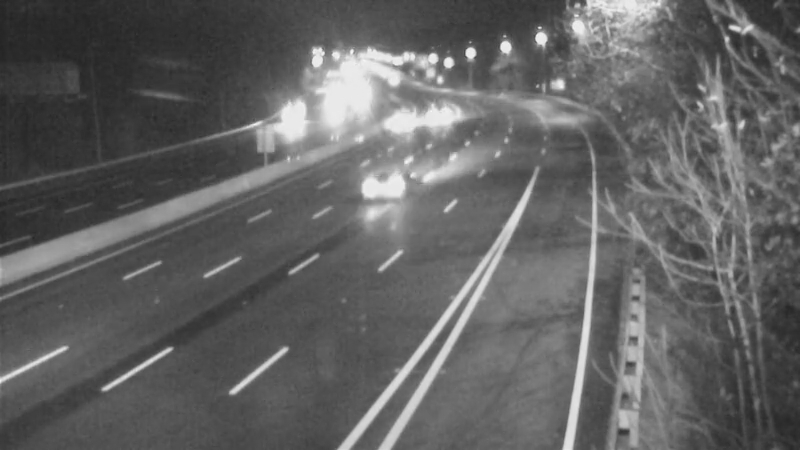vehicle: (340, 146, 420, 226), (407, 92, 457, 142), (372, 99, 422, 149), (271, 92, 321, 142), (312, 80, 362, 130)
